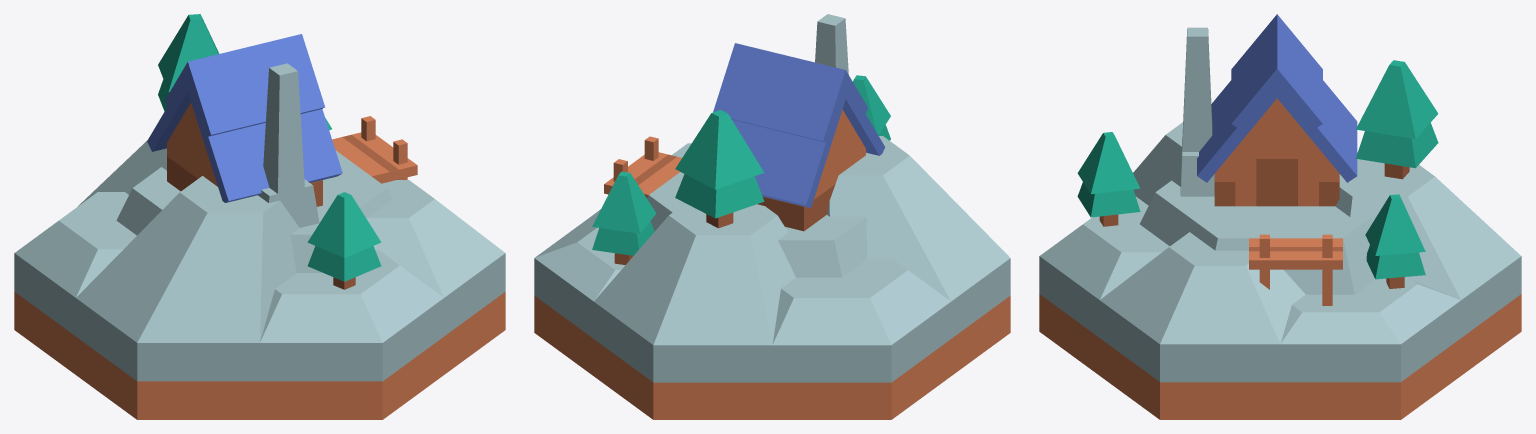
File: building_cabin.dae
3 views of the same model, side by side, from view 1: azimuth 30°, elevation 25°; view 2: azimuth 150°, elevation 25°; view 3: azimuth 270°, elevation 25° (orthographic). The views are drawn at different scales.
Parts seen in each view (by area): view 1: rockLarge, building_cabin, building, tree (×2), chimney, dock; view 2: rockLarge, building_cabin, building, tree (×3), dock, chimney; view 3: rockLarge, building_cabin, building, tree (×3), chimney, dock.
Part boxes in pixels (left/top/right/bottom): rockLarge: left=15, top=141, right=504, bottom=342; building_cabin: left=14, top=253, right=505, bottom=419; building: left=147, top=34, right=342, bottom=206; tree (×2): left=158, top=14, right=381, bottom=289; chimney: left=258, top=63, right=319, bottom=227; dock: left=332, top=116, right=417, bottom=183; rockLarge: left=534, top=136, right=1010, bottom=345; building_cabin: left=534, top=258, right=1010, bottom=419; building: left=713, top=43, right=885, bottom=231; tree (×3): left=592, top=75, right=890, bottom=264; dock: left=604, top=136, right=681, bottom=197; chimney: left=815, top=14, right=848, bottom=74; rockLarge: left=1040, top=122, right=1520, bottom=344; building_cabin: left=1039, top=256, right=1521, bottom=419; building: left=1197, top=14, right=1357, bottom=206; tree (×3): left=1077, top=60, right=1438, bottom=288; chimney: left=1180, top=27, right=1214, bottom=196; dock: left=1249, top=234, right=1342, bottom=305.
Bounding box in the file's own units: 1 × 0.7684 × 1.15.
